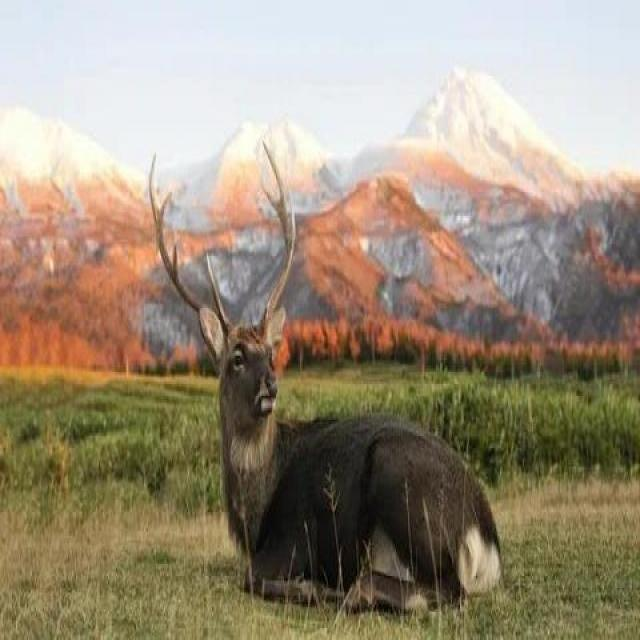deer: (154, 180, 522, 640)
